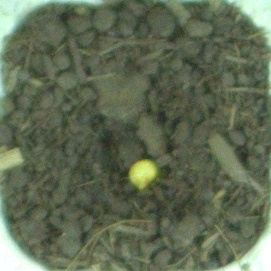pepper seed: (47, 63, 206, 254)
